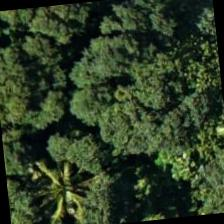Kelapa_Sawit: (13, 136, 114, 223)
